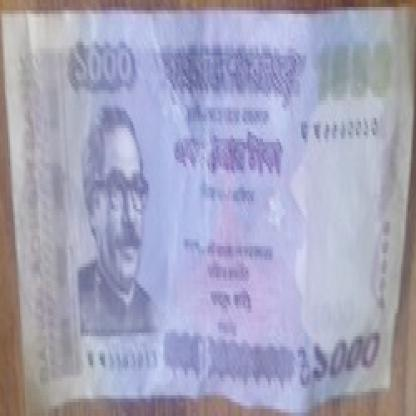One Thousand taka: (60, 35, 150, 86), (303, 329, 384, 385)
